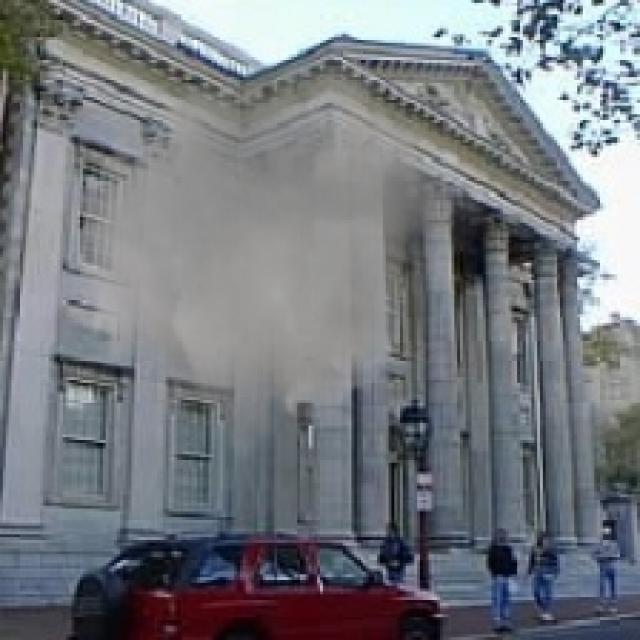smoke: (66, 49, 486, 468)
